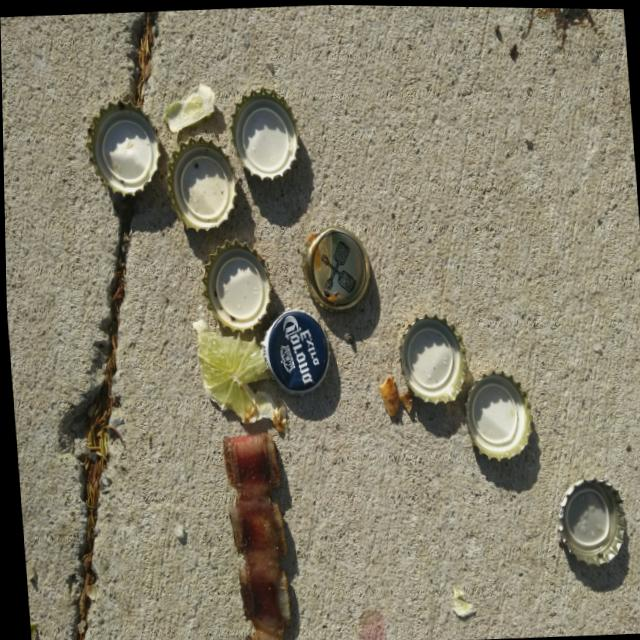Can-Metal: (79, 91, 167, 208), (156, 129, 241, 238), (453, 359, 536, 468), (223, 80, 307, 187), (193, 233, 277, 340), (293, 217, 377, 316), (550, 465, 629, 570), (394, 303, 471, 410), (253, 302, 335, 398)
